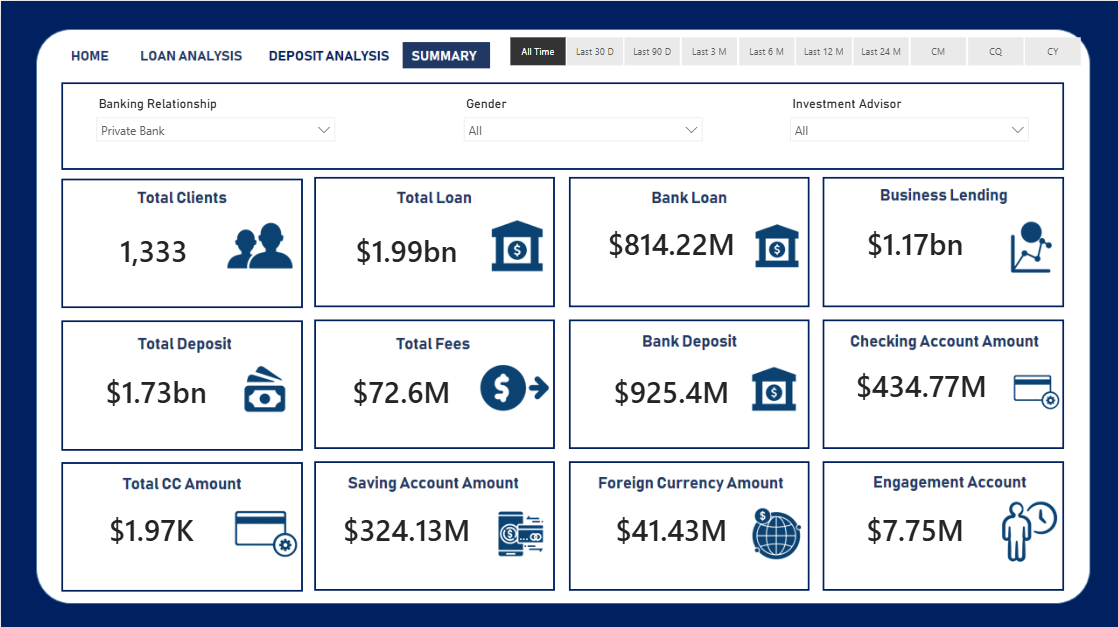

The page's visual inventory and layout, read from the dashboard file:
{"tool":"powerbi","page":{"name":"Summary","canvas":[1280,720],"ordinal":3},"visuals":[{"type":"card","fields":{"Values":["DAX Measures.Engagment Length"]},"box":[946.3,546.4,198.2,114.9],"z":0},{"type":"card","fields":{"Values":["DAX Measures.Foreign Currency Account"]},"box":[667.2,546.4,198.2,114.9],"z":1000},{"type":"card","fields":{"Values":["DAX Measures.Bank Deposit"]},"box":[667.2,390.5,198.2,114.9],"z":2000},{"type":"card","fields":{"Values":["DAX Measures.Checking Accounts"]},"box":[953.4,382.3,198.2,114.9],"z":3000},{"type":"card","fields":{"Values":["DAX Measures.Bank Loan"]},"box":[667.2,220.5,198.2,114.9],"z":4000},{"type":"card","fields":{"Values":["DAX Measures.Business Lending"]},"box":[953.4,220.5,184.1,114.9],"z":5000},{"type":"card","fields":{"Values":["DAX Measures.Savings Account"]},"box":[360,546.4,207.6,114.9],"z":6000},{"type":"card","fields":{"Values":["DAX Measures.Total CC Amount"]},"box":[72.7,546.4,198.2,114.9],"z":7000},{"type":"card","fields":{"Values":["DAX Measures.Total Deposit"]},"box":[78.6,390.5,198.2,114.9],"z":8000},{"type":"card","fields":{"Values":["DAX Measures.Total Fees"]},"box":[365.9,390.5,184.1,114.9],"z":9000},{"type":"card","fields":{"Values":["DAX Measures.Total Clients"]},"box":[75,228.7,198.2,114.9],"z":10000},{"type":"card","fields":{"Values":["DAX Measures.Total Loan"]},"box":[365.9,228.7,195.8,114.9],"z":11000},{"type":"slicer","fields":{"Values":["Banking Relationship.Banking Relationship"]},"box":[98.5,104.3,292.9,75.7],"z":12000},{"type":"slicer","fields":{"Values":["Gender.Gender"]},"box":[518.9,104.3,292.9,75.7],"z":13000},{"type":"slicer","fields":{"Values":["Investment Advisor.Investment Advisor"]},"box":[891.3,104.3,292.9,75.7],"z":14000},{"type":"slicer","fields":{"Values":["Period.Name"]},"box":[555.2,34.6,702.1,46.6],"z":15000},{"type":"actionButton","box":[72.8,44.2,58.5,31],"z":16000},{"type":"actionButton","box":[306.9,44.7,119.4,31],"z":17000},{"type":"actionButton","box":[297.9,44.6,147.8,30.5],"z":18000},{"type":"actionButton","box":[157.1,44.6,125.5,30.5],"z":19000}]}

Visuals, with their boxes in screenshot pixels (x1, y1, x2, y2), scaled from the page's 1280x720 canvas onto the 1118x627 screenshot:
card - DAX Measures.Engagment Length: 827, 476, 1000, 576
card - DAX Measures.Foreign Currency Account: 583, 476, 756, 576
card - DAX Measures.Bank Deposit: 583, 340, 756, 440
card - DAX Measures.Checking Accounts: 833, 333, 1006, 433
card - DAX Measures.Bank Loan: 583, 192, 756, 292
card - DAX Measures.Business Lending: 833, 192, 994, 292
card - DAX Measures.Savings Account: 314, 476, 496, 576
card - DAX Measures.Total CC Amount: 63, 476, 237, 576
card - DAX Measures.Total Deposit: 69, 340, 242, 440
card - DAX Measures.Total Fees: 320, 340, 480, 440
card - DAX Measures.Total Clients: 66, 199, 239, 299
card - DAX Measures.Total Loan: 320, 199, 491, 299
slicer - Banking Relationship.Banking Relationship: 86, 91, 342, 157
slicer - Gender.Gender: 453, 91, 709, 157
slicer - Investment Advisor.Investment Advisor: 778, 91, 1034, 157
slicer - Period.Name: 485, 30, 1098, 71
actionButton: 64, 38, 115, 65
actionButton: 268, 39, 372, 66
actionButton: 260, 39, 389, 65
actionButton: 137, 39, 247, 65
